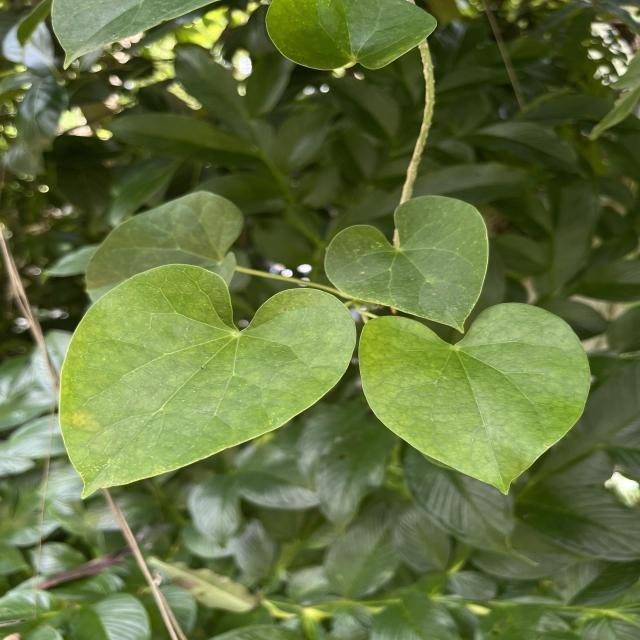Tinospora cordifolia: (56, 262, 360, 502), (355, 299, 593, 498), (321, 193, 492, 336)
